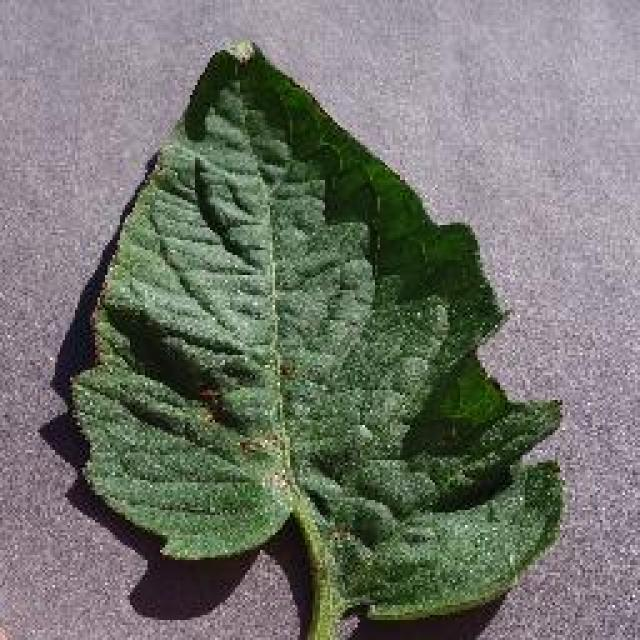Tomato___Target_Spot: (70, 42, 560, 638)
